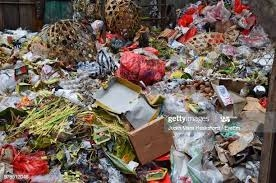kitchen_waste: (8, 93, 92, 151), (144, 91, 165, 106)
paper: (88, 74, 164, 132), (218, 95, 267, 167), (121, 114, 178, 167), (208, 79, 235, 107)
plastic: (115, 44, 171, 85), (8, 149, 52, 179)
